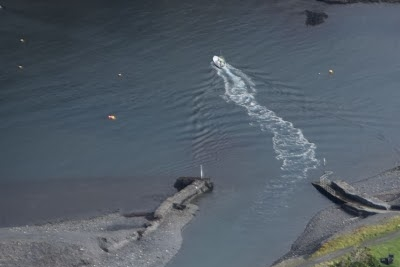scattered_barrel: (12, 32, 128, 121)
white_in_green: (316, 58, 344, 82)
